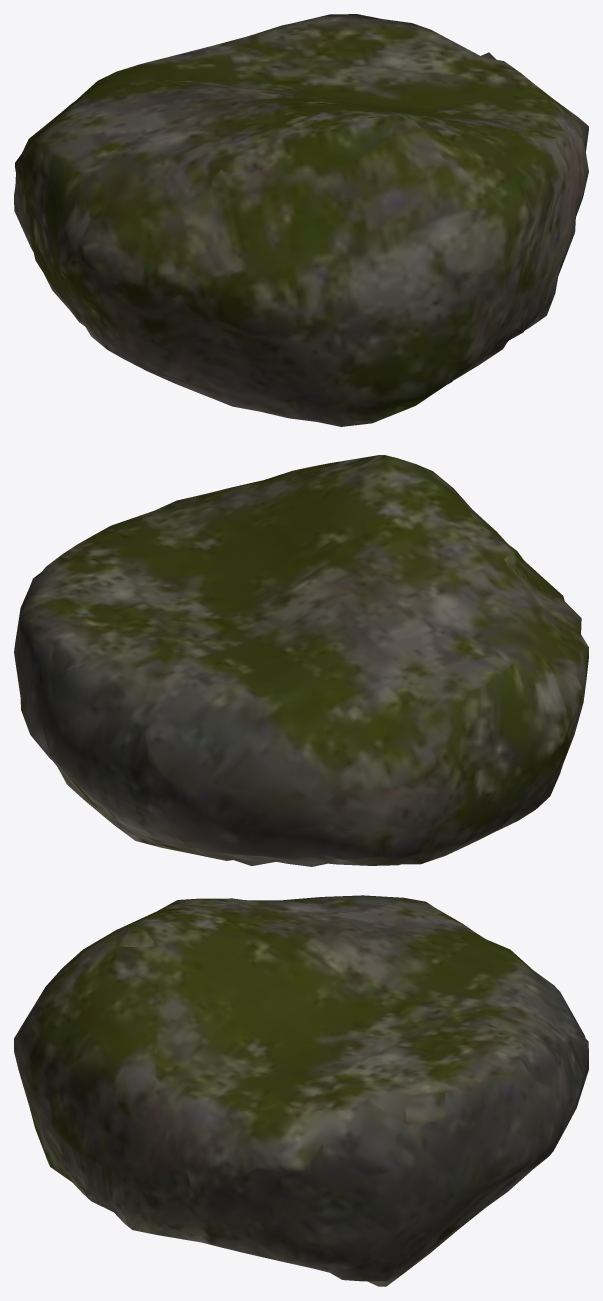
File: rock2.glb
3 renders of one model, top to bottom at view 1: azimuth 30°, elevation 25°; view 2: azimuth 150°, elevation 25°; view 3: azimuth 270°, elevation 25°, orthographic. The views are drawn at different scales.
Visible parts, largest first — view 1: A_Set.001; view 2: A_Set.001; view 3: A_Set.001.
Boxes of the visible parts, x1,y1,x2,y2 form: A_Set.001: [14, 14, 588, 426]; A_Set.001: [14, 455, 588, 866]; A_Set.001: [14, 895, 588, 1286].
Bounding box in the file's own units: 5.6 × 3.23 × 5.59.
Materials: 1 (1 with a texture image).
